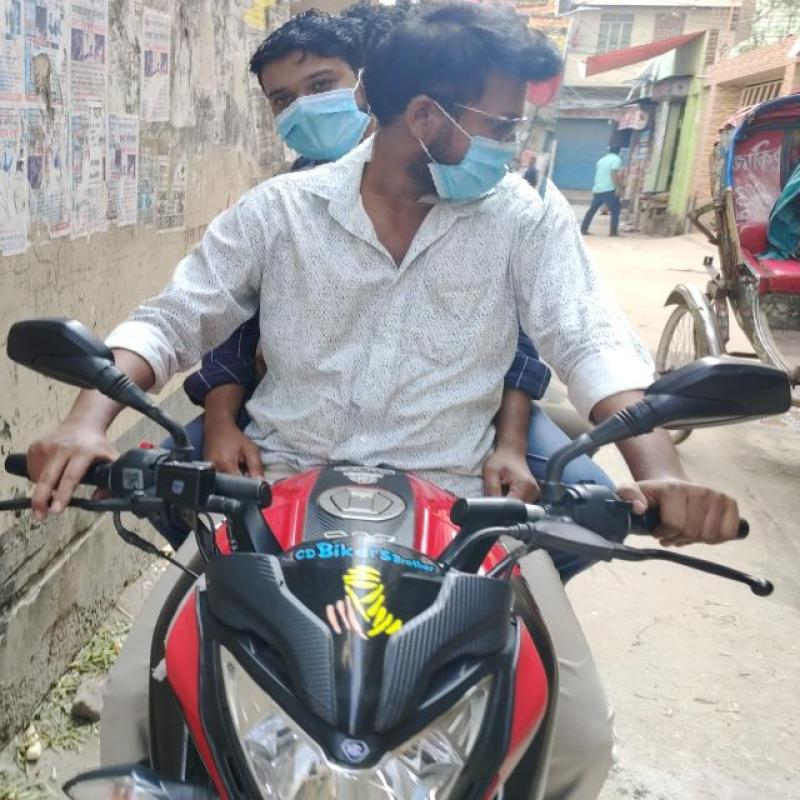nohelmet: (372, 0, 565, 214), (230, 0, 387, 173)
